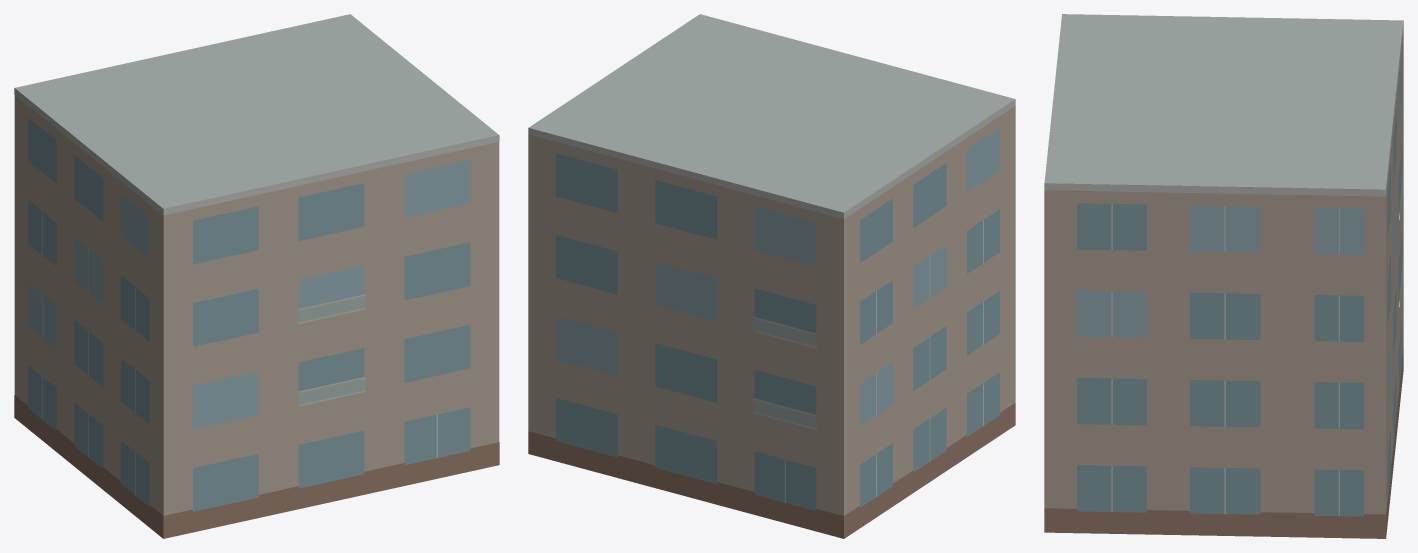
The model's file is residential-1ba12be8-ea1b-4955-83ac-e03adedf0530.glb.
The picture shows the model from 3 angles, left to right: view 1: azimuth 30°, elevation 25°; view 2: azimuth 150°, elevation 25°; view 3: azimuth 270°, elevation 25°; orthographic projection. The views are drawn at different scales.
Visible parts, largest first — view 1: residential-1ba12be8-ea1b-4955-83ac-e03adedf0530.tmp; view 2: residential-1ba12be8-ea1b-4955-83ac-e03adedf0530.tmp; view 3: residential-1ba12be8-ea1b-4955-83ac-e03adedf0530.tmp.
Boxes of the visible parts, box(x1,y1,x2,y2) form: residential-1ba12be8-ea1b-4955-83ac-e03adedf0530.tmp: box(14, 14, 499, 538); residential-1ba12be8-ea1b-4955-83ac-e03adedf0530.tmp: box(528, 14, 1015, 538); residential-1ba12be8-ea1b-4955-83ac-e03adedf0530.tmp: box(1044, 14, 1403, 538).
Size of the model in its own units: 13.16 by 12.2 by 11.38.
